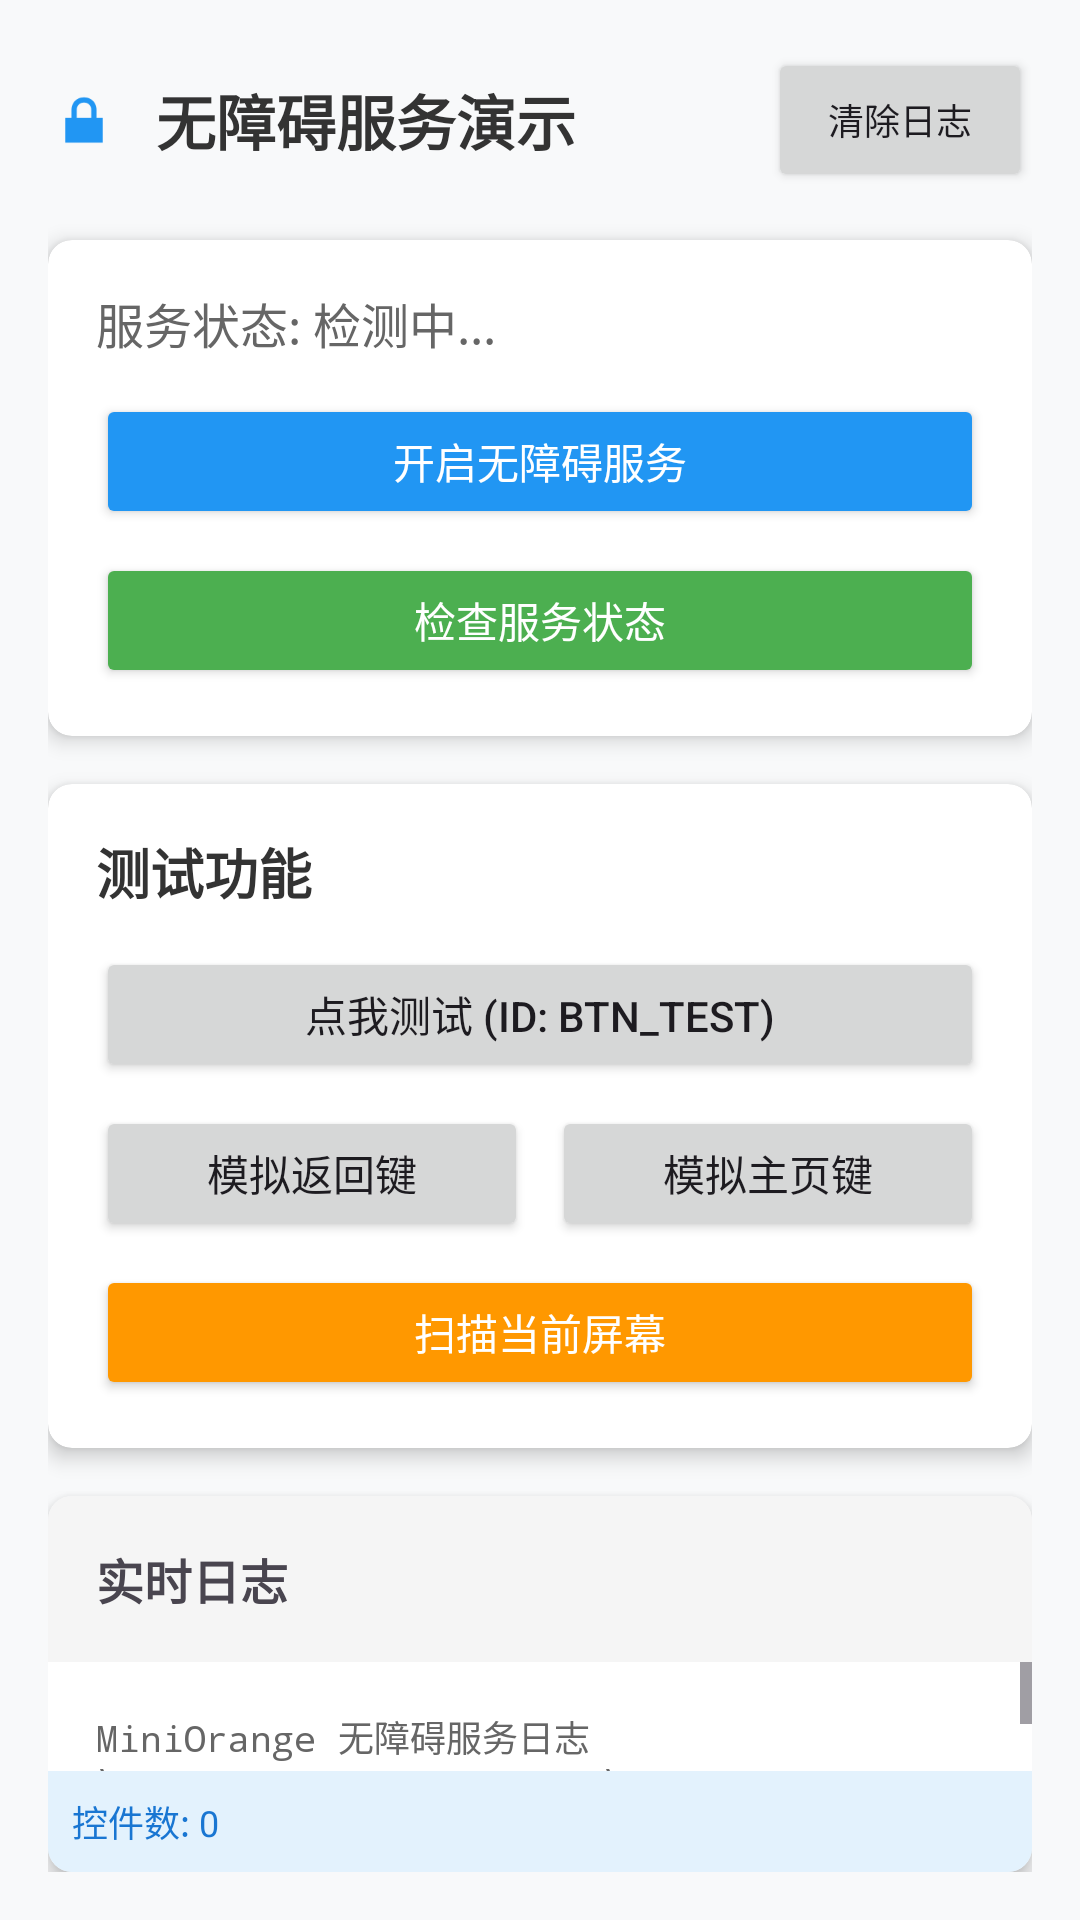

Where icons sit on this 1080px×1920px app screen, as (x1, y1, x2, y2):
lock: (65, 97, 103, 143)
